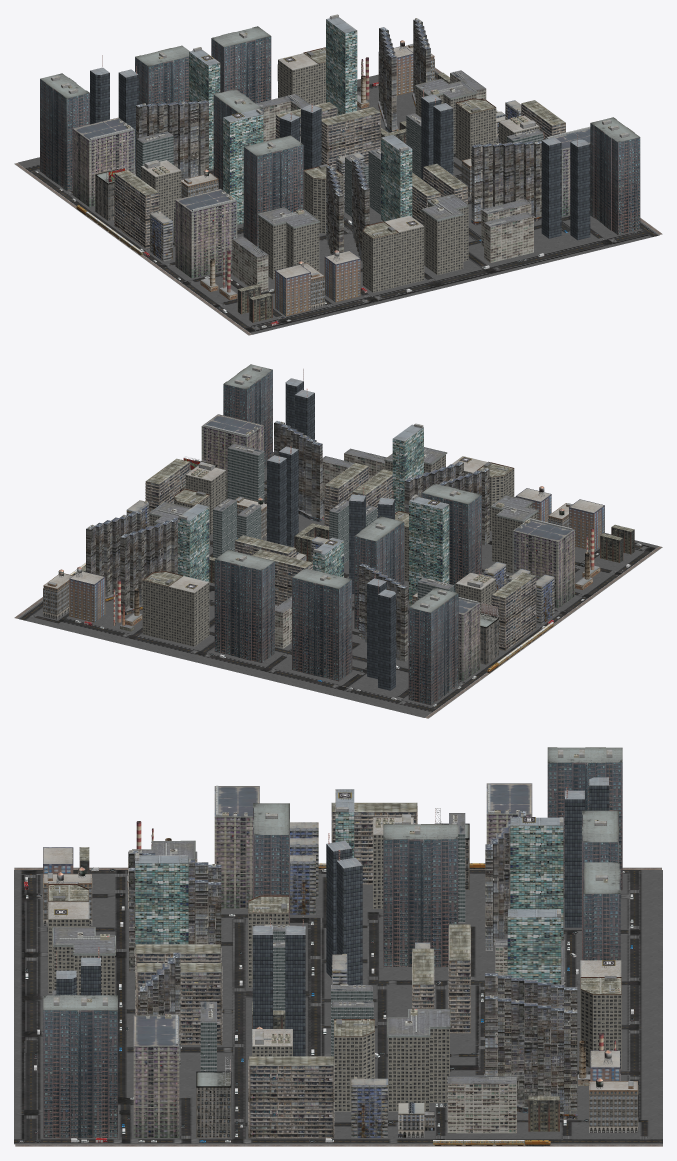
The picture shows the model from 3 angles, top to bottom: view 1: azimuth 30°, elevation 25°; view 2: azimuth 150°, elevation 25°; view 3: azimuth 270°, elevation 25°; orthographic projection. The views are drawn at different scales.
Parts seen in each view (by area): view 1: Plane_504, Building2_8, Building2.005_447, Building12.002_173, Building3.002_463, Building2.003_272, Building12.005_400, Building3.001_278, Building2.002_209, building.018_337, building.012_219, Building1.001_200 (+50 smaller); view 2: Plane_504, Building2.002_209, Building2.004_430, Building2.003_272, Building3.002_463, Building1.002_265, Building12.001_99, Building2.005_447, Building2.001_205, Building2_8, building.007_165, Building12_104 (+45 smaller); view 3: Plane_504, Building2_8, Building2.001_205, Building12_104, Building5_51, building.001_97, Building3_14, Building1_1, Building1.003_425, Building3.002_463, Building2.003_272, Building10_132 (+49 smaller).
Part boxes in pixels (x1,y1,x2,y2): Plane_504: [18, 71, 659, 334]; Building2_8: [590, 117, 640, 234]; Building2.005_447: [243, 135, 303, 247]; Building12.002_173: [471, 140, 541, 220]; Building3.002_463: [175, 189, 237, 278]; Building2.003_272: [40, 73, 89, 190]; Building12.005_400: [136, 100, 208, 177]; Building3.001_278: [73, 117, 134, 207]; Building2.002_209: [211, 26, 271, 103]; building.018_337: [257, 207, 320, 279]; building.012_219: [421, 194, 469, 274]; Building1.001_200: [326, 17, 357, 115]; Plane_504: [18, 452, 658, 717]; Building2.002_209: [214, 549, 274, 662]; Building2.004_430: [292, 568, 352, 681]; Building2.003_272: [408, 587, 458, 705]; Building3.002_463: [512, 520, 574, 608]; Building1.002_265: [409, 497, 449, 605]; Building12.001_99: [120, 517, 177, 610]; Building2.005_447: [421, 483, 481, 592]; Building2.001_205: [354, 516, 404, 629]; Building2_8: [223, 364, 272, 468]; building.007_165: [168, 576, 209, 646]; Building12_104: [86, 509, 145, 597]; Plane_504: [14, 870, 662, 1144]; Building2_8: [43, 995, 117, 1138]; Building2.001_205: [383, 824, 458, 967]; Building12_104: [485, 996, 577, 1113]; Building5_51: [248, 1056, 334, 1138]; building.001_97: [387, 1009, 450, 1111]; Building3_14: [133, 1015, 179, 1137]; Building1_1: [510, 817, 563, 939]; Building1.003_425: [135, 855, 188, 1006]; Building3.002_463: [214, 786, 259, 908]; Building2.003_272: [547, 747, 622, 890]; Building10_132: [447, 1076, 516, 1133].
Size of the model in its own units: 407 by 104 by 400.
6 materials, 6 textured.
